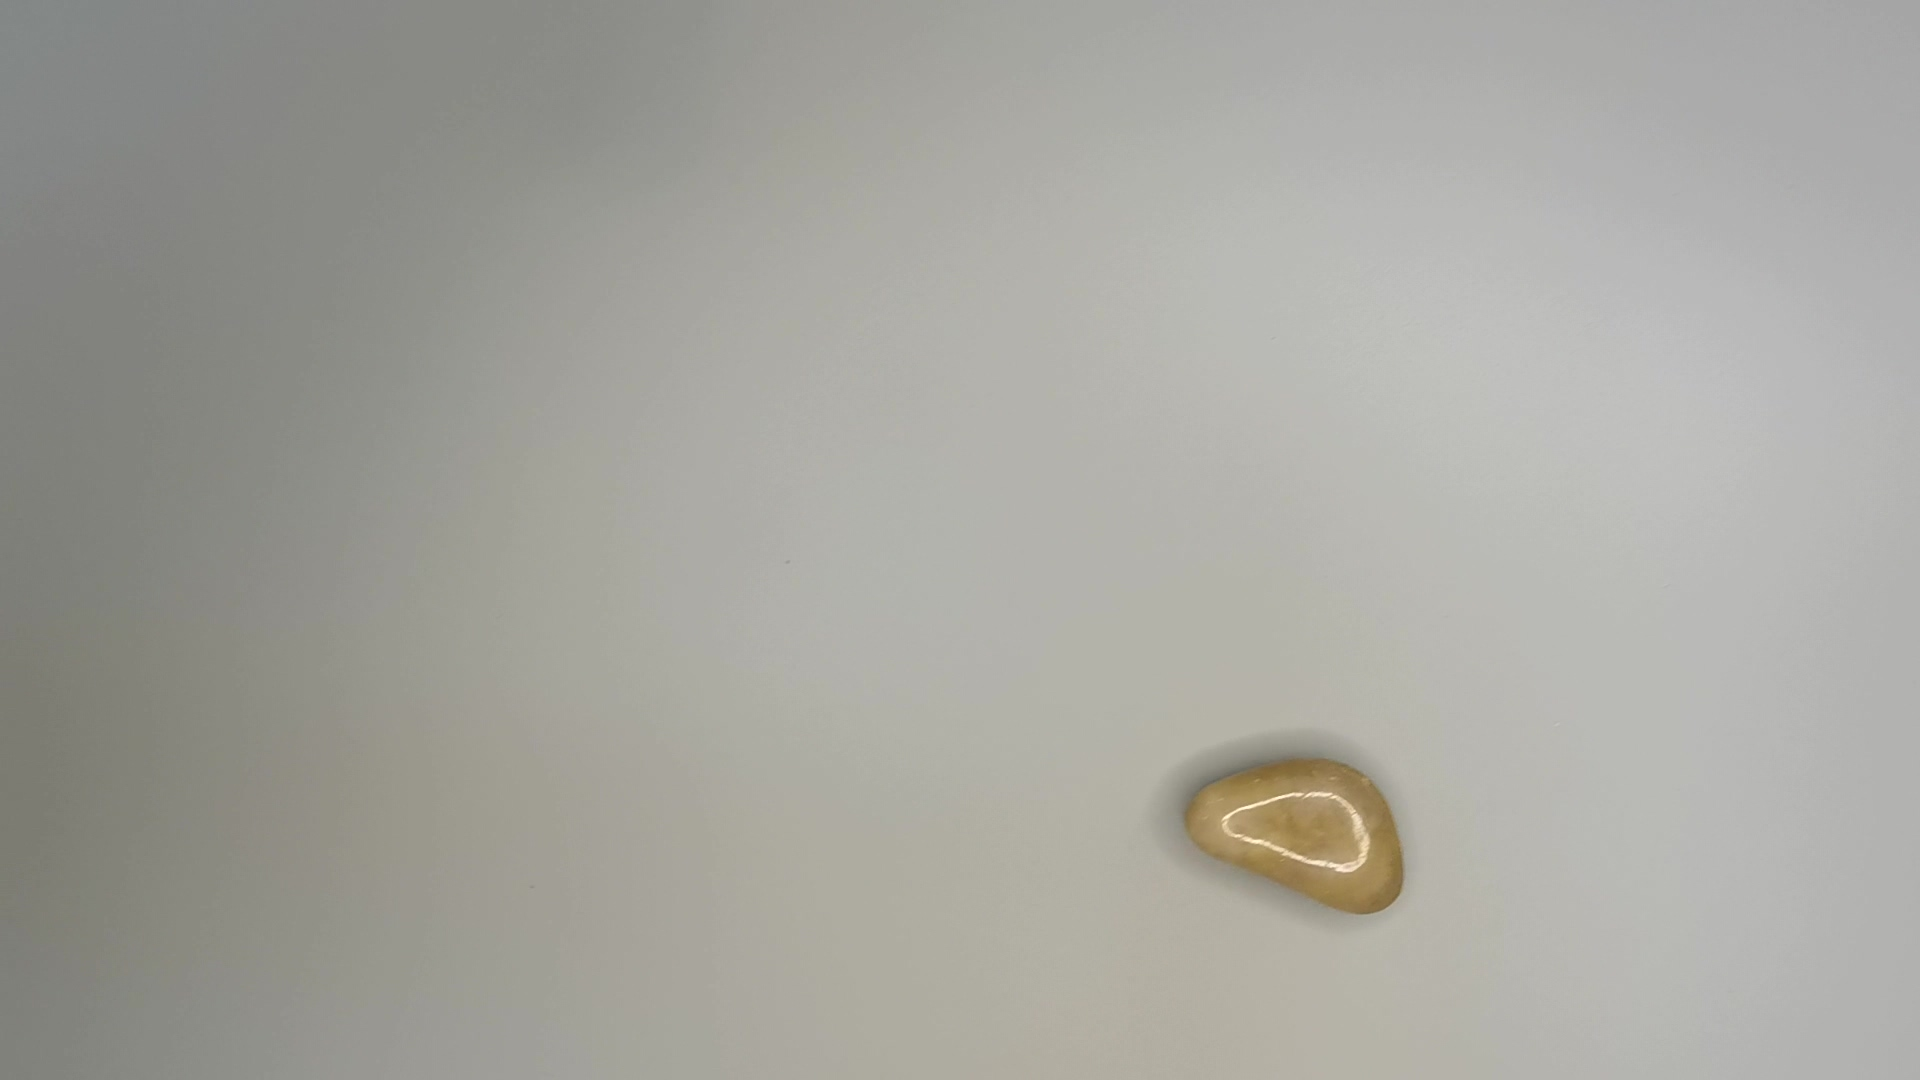ceramic: (1178, 752, 1433, 932)
